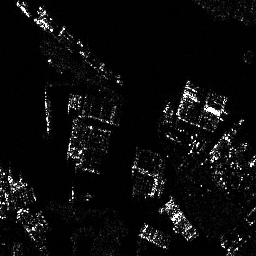ship: (183, 78, 232, 119), (160, 197, 199, 243), (138, 222, 171, 251), (90, 57, 123, 77), (17, 177, 40, 204), (60, 26, 85, 49), (37, 5, 60, 28), (43, 92, 53, 135), (35, 212, 52, 232)
